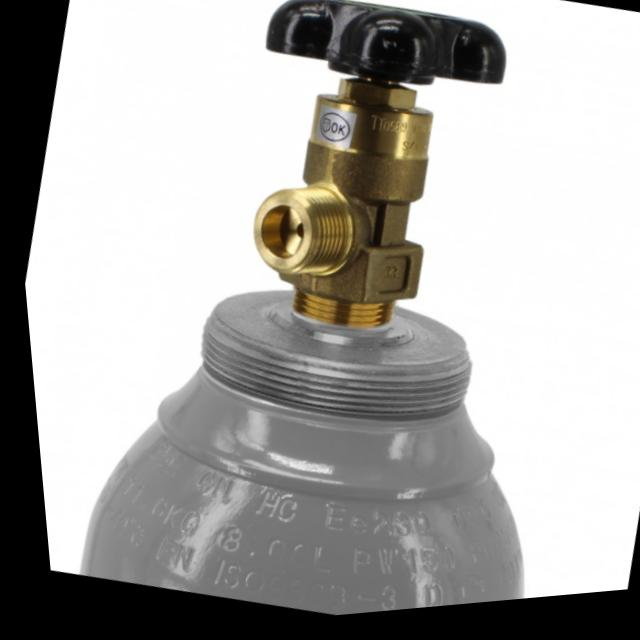ocr: (193, 554, 403, 620), (104, 470, 197, 549), (309, 496, 432, 551), (333, 547, 450, 584), (85, 496, 147, 561), (251, 539, 327, 584), (239, 481, 299, 537), (179, 457, 236, 513), (132, 533, 189, 586), (451, 522, 508, 575), (434, 499, 486, 546), (199, 520, 244, 563), (406, 583, 439, 615)
